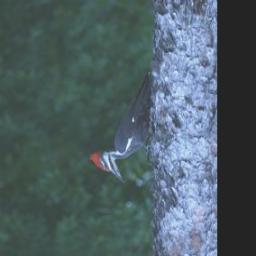Woodpecker: (91, 68, 156, 188)
